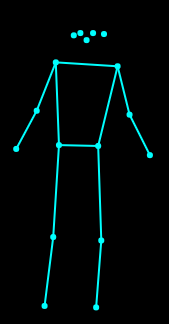mountain: (11, 22, 155, 314)
